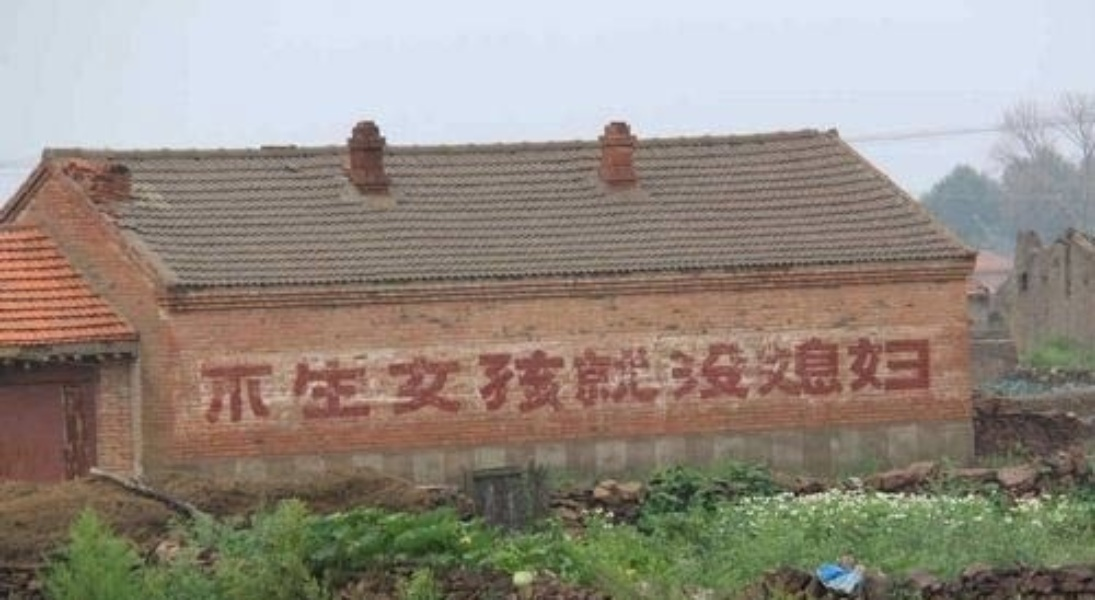text: (209, 329, 224, 432), (225, 329, 240, 432), (241, 329, 256, 432), (257, 329, 272, 432), (273, 329, 288, 432), (289, 329, 304, 432), (305, 329, 320, 432), (321, 329, 336, 432), (337, 329, 352, 432), (353, 329, 368, 432), (369, 329, 384, 432), (385, 329, 400, 432), (401, 329, 416, 432), (417, 329, 432, 432), (433, 329, 448, 432), (449, 329, 464, 432), (465, 329, 480, 432), (481, 329, 496, 432), (497, 329, 512, 432), (513, 329, 528, 432), (529, 329, 544, 432), (545, 329, 560, 432), (561, 329, 576, 432), (577, 329, 592, 432), (593, 329, 608, 432), (609, 329, 624, 432), (625, 329, 640, 432), (641, 329, 656, 432), (657, 329, 672, 432), (673, 329, 688, 432), (689, 329, 704, 432), (705, 329, 720, 432), (721, 329, 736, 432), (737, 329, 752, 432), (753, 329, 768, 432), (769, 329, 784, 432), (785, 329, 800, 432), (801, 329, 816, 432), (817, 329, 832, 432), (833, 329, 848, 432), (849, 329, 864, 432), (865, 329, 880, 432), (881, 329, 896, 432), (897, 329, 912, 432), (913, 329, 928, 432), (200, 329, 208, 432), (929, 329, 933, 432)
